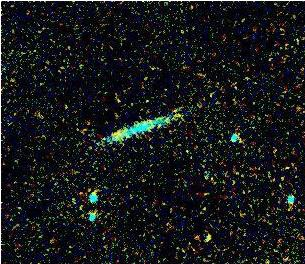star: (99, 120, 129, 150)
